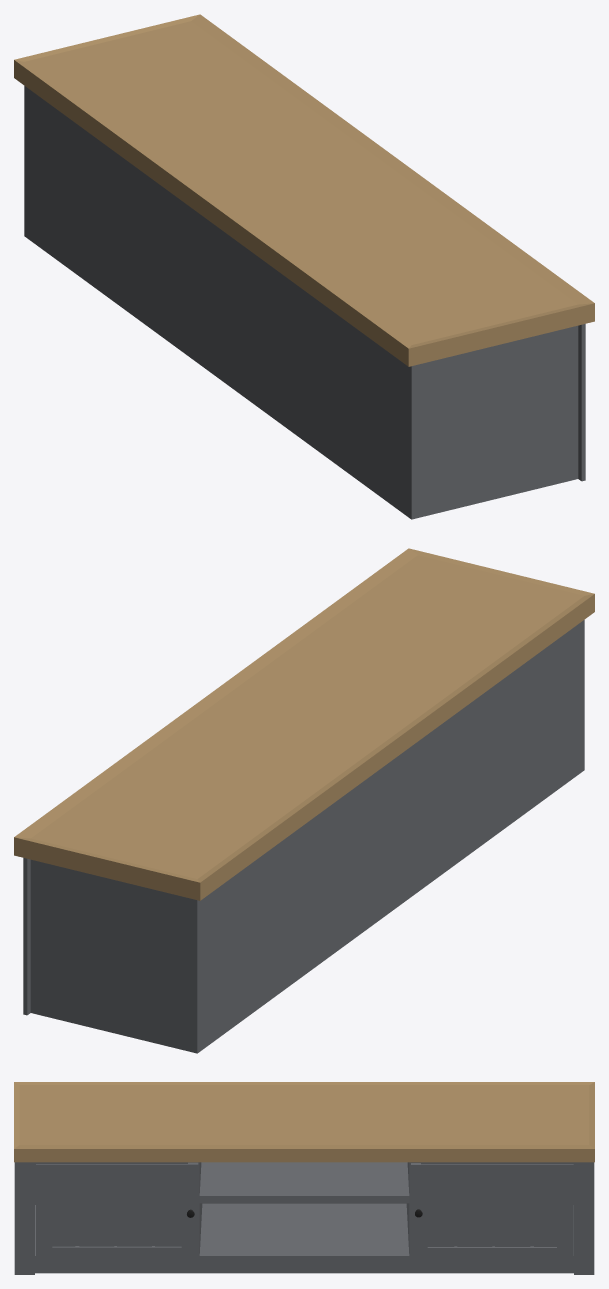
The model's file is TV_Stand.fbx.
3 renders of one model, top to bottom at view 1: azimuth 30°, elevation 25°; view 2: azimuth 150°, elevation 25°; view 3: azimuth 270°, elevation 25°, orthographic. The views are drawn at different scales.
Parts seen in each view (by area): view 1: Cube, Cube.007, Cube.005; view 2: Cube, Cube.007, Cube.005; view 3: Cube.007, Cube, Cube.001, Cube.003.
Part boxes in pixels (x1=…): Cube: x1=15, y1=60, x2=585, y2=519; Cube.007: x1=14, y1=14, x2=594, y2=348; Cube.005: x1=14, y1=60, x2=594, y2=366; Cube: x1=23, y1=620, x2=584, y2=1053; Cube.007: x1=14, y1=548, x2=594, y2=882; Cube.005: x1=14, y1=594, x2=594, y2=900; Cube.007: x1=14, y1=1082, x2=594, y2=1162; Cube: x1=14, y1=1082, x2=594, y2=1274; Cube.001: x1=411, y1=1163, x2=573, y2=1259; Cube.003: x1=36, y1=1162, x2=198, y2=1258.
Size of the model in its own units: 223 by 201 by 820.
